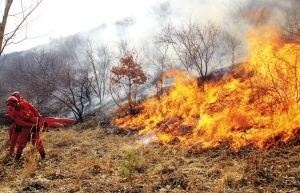fire: (106, 16, 299, 154)
